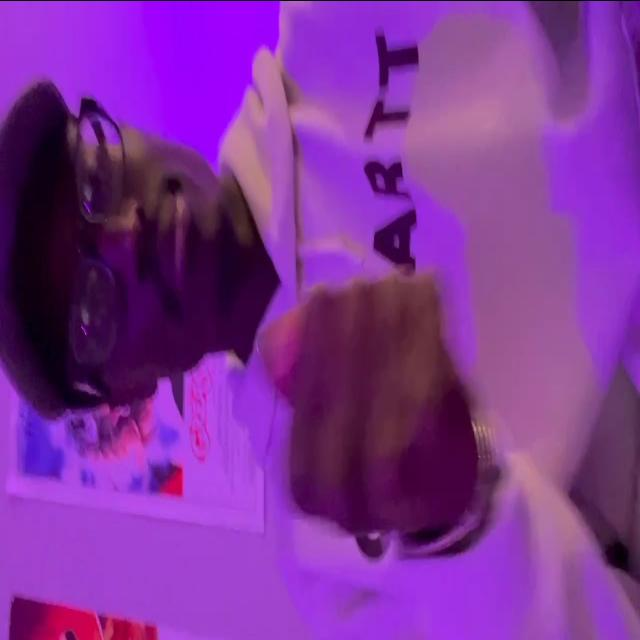Rock: (266, 278, 473, 540)
